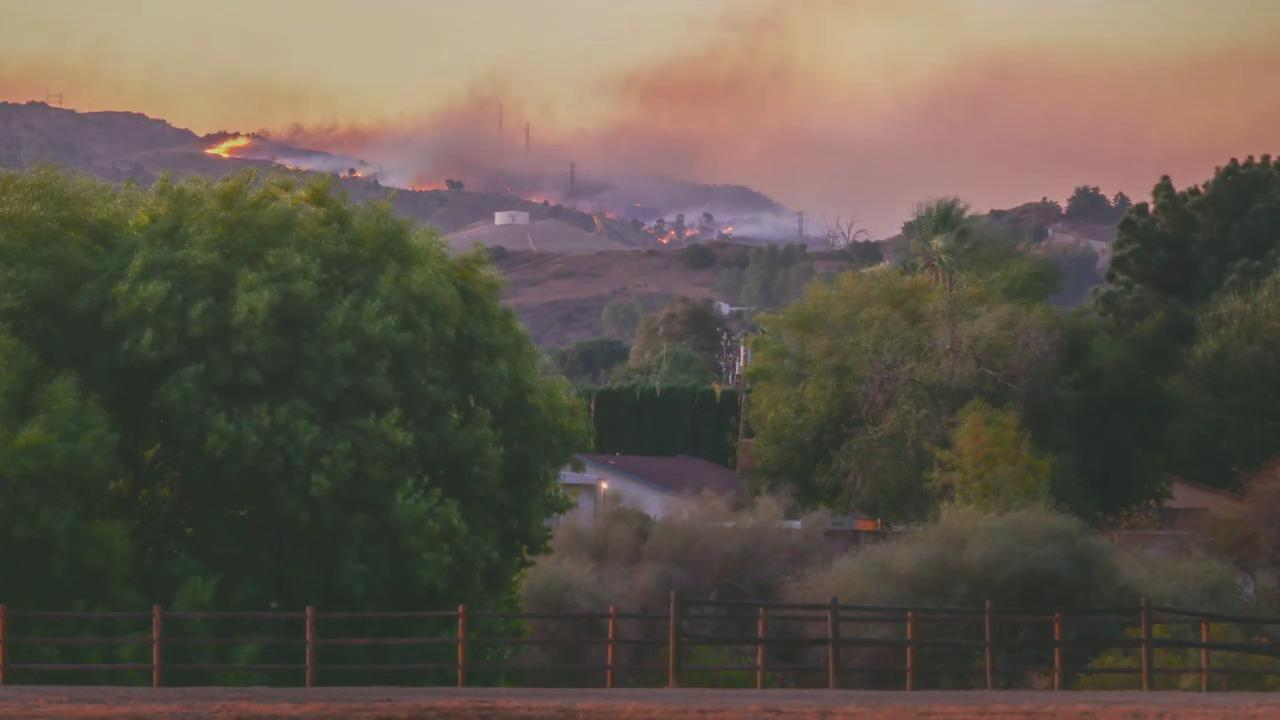fire: (197, 134, 250, 162), (656, 230, 675, 246), (338, 168, 364, 179), (682, 226, 701, 237), (723, 222, 734, 234)
